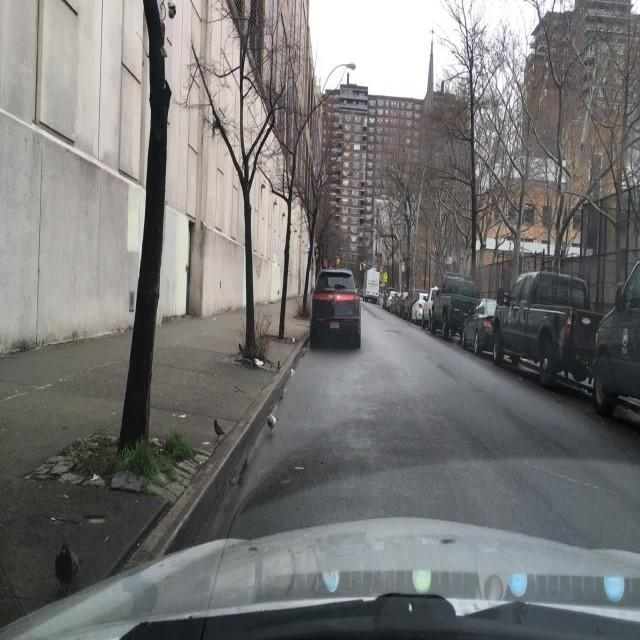normal: (483, 271, 605, 392), (587, 266, 636, 434), (424, 276, 479, 341), (312, 286, 365, 351), (463, 297, 498, 353), (410, 290, 431, 323), (395, 290, 414, 317), (383, 288, 398, 308)
